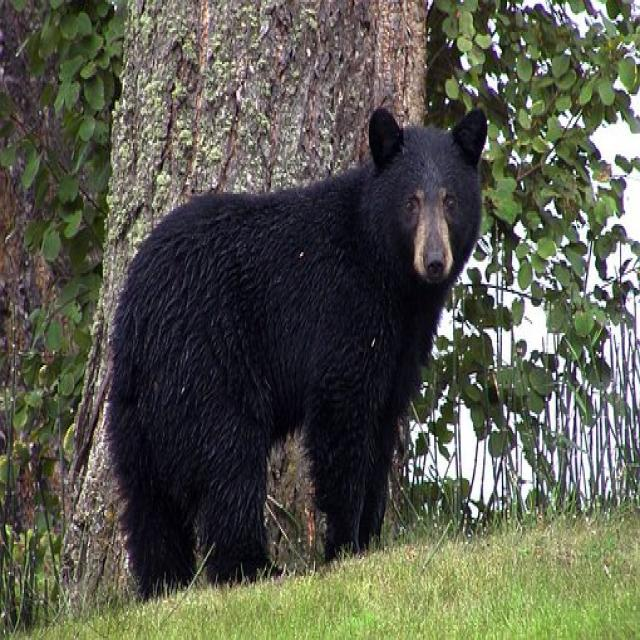Bear: (103, 109, 488, 600)
